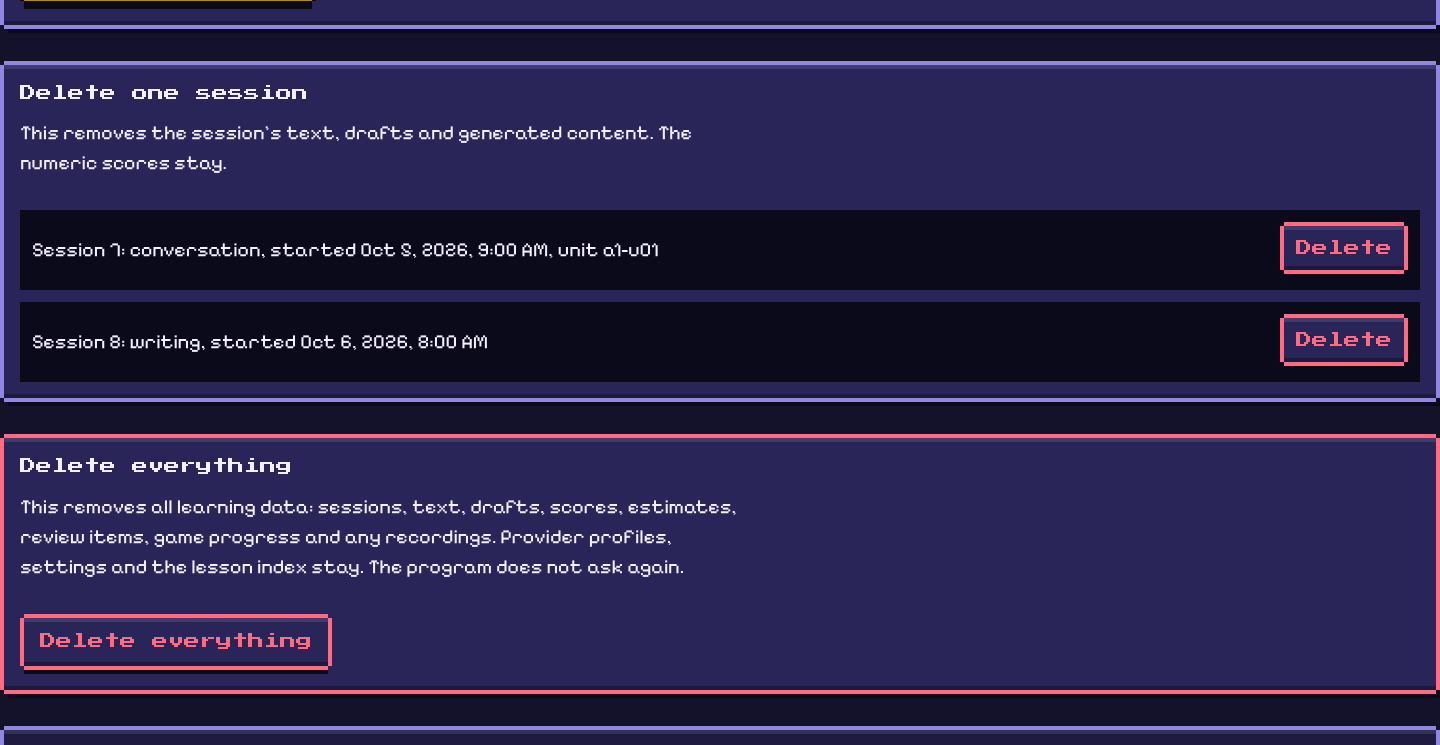
Test: PrivacyScreen: delete one session › does nothing when the question is cancelled
(page scrolled)
Step 1. Click the button with aria-label "Delete session 8" → (1344, 340), box [1284,318,1404,362]
(page scrolled)
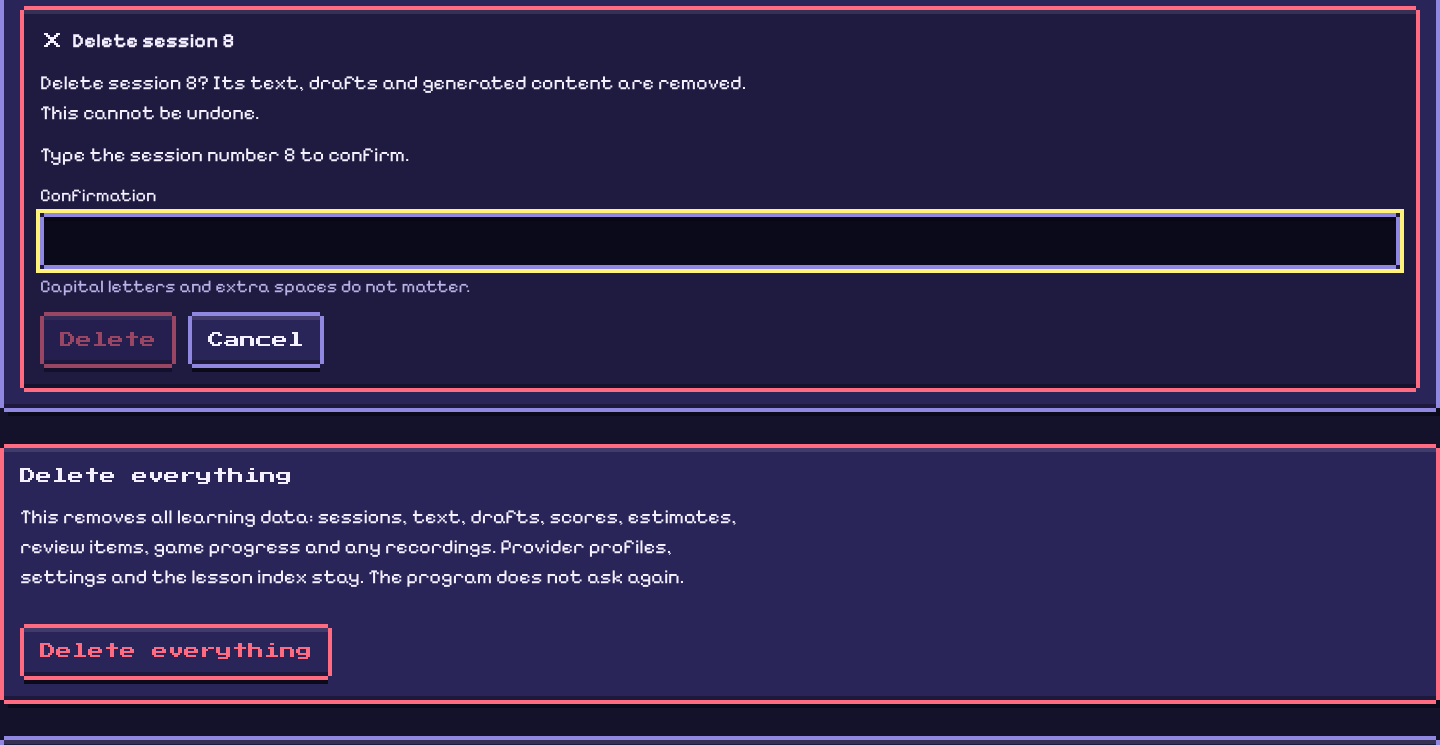
Step 2. Click the button "Cancel" → (256, 340), box [192,316,320,364]
(page scrolled)
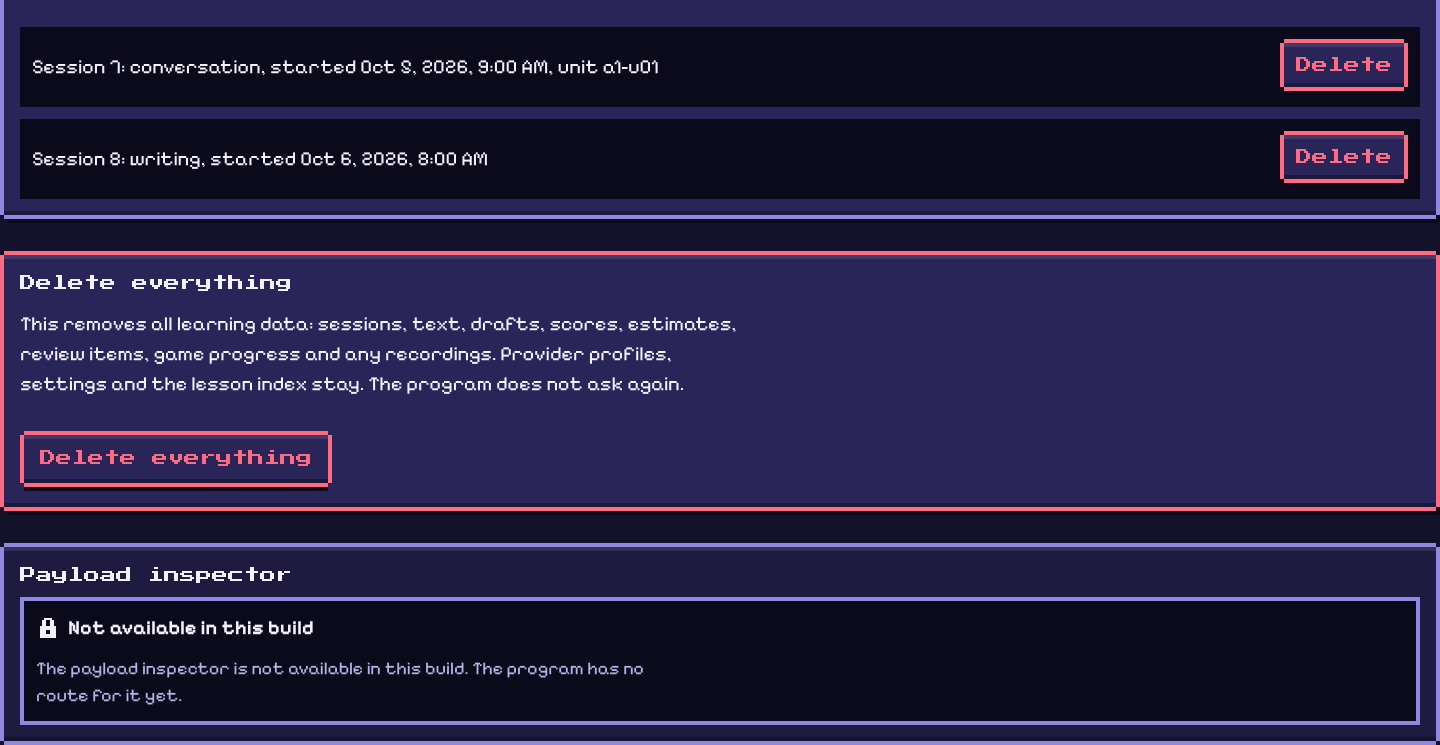
Check: the label labelled "Confirmation" is gone
